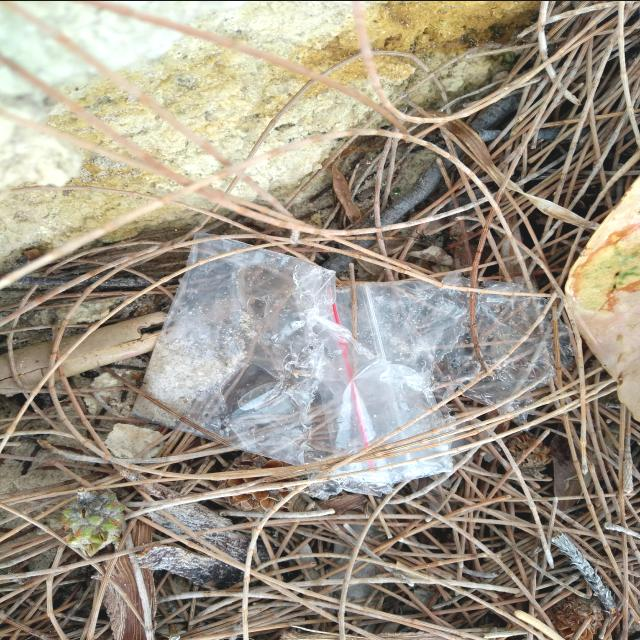Plastic film: (130, 230, 575, 499)
